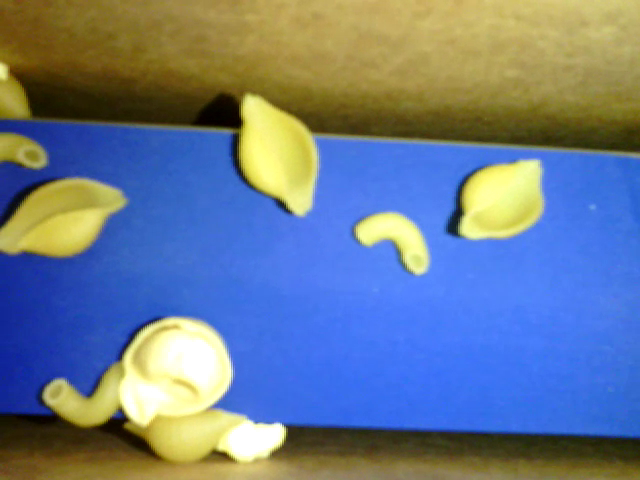elbow: (40, 362, 132, 429), (353, 209, 434, 278), (2, 135, 51, 171)
shell: (233, 92, 321, 219), (1, 171, 123, 262), (456, 158, 547, 242), (122, 408, 243, 464)
tortellini: (118, 315, 232, 432)
